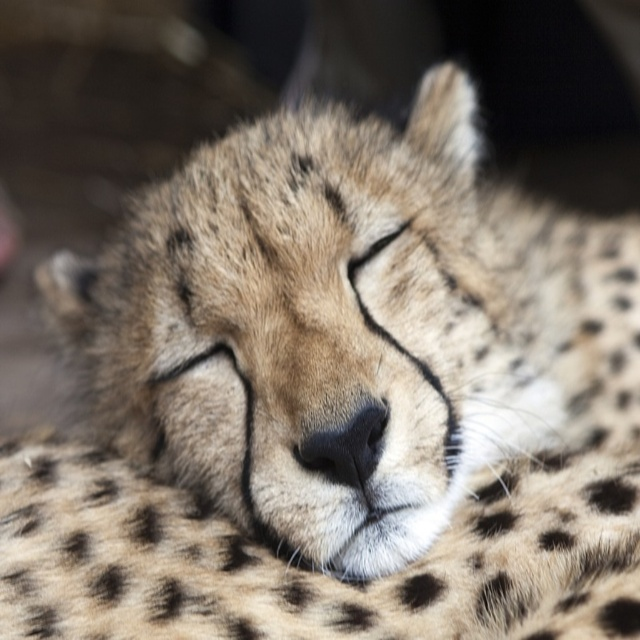Cheetah: (0, 61, 639, 639)
